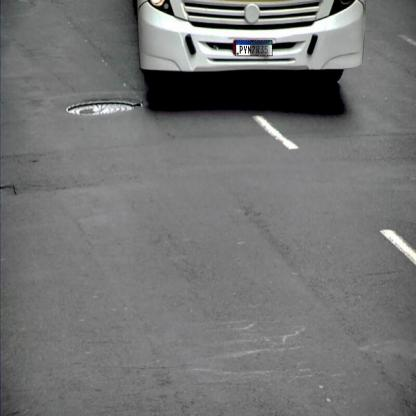PlacaM: (236, 40, 272, 56)
